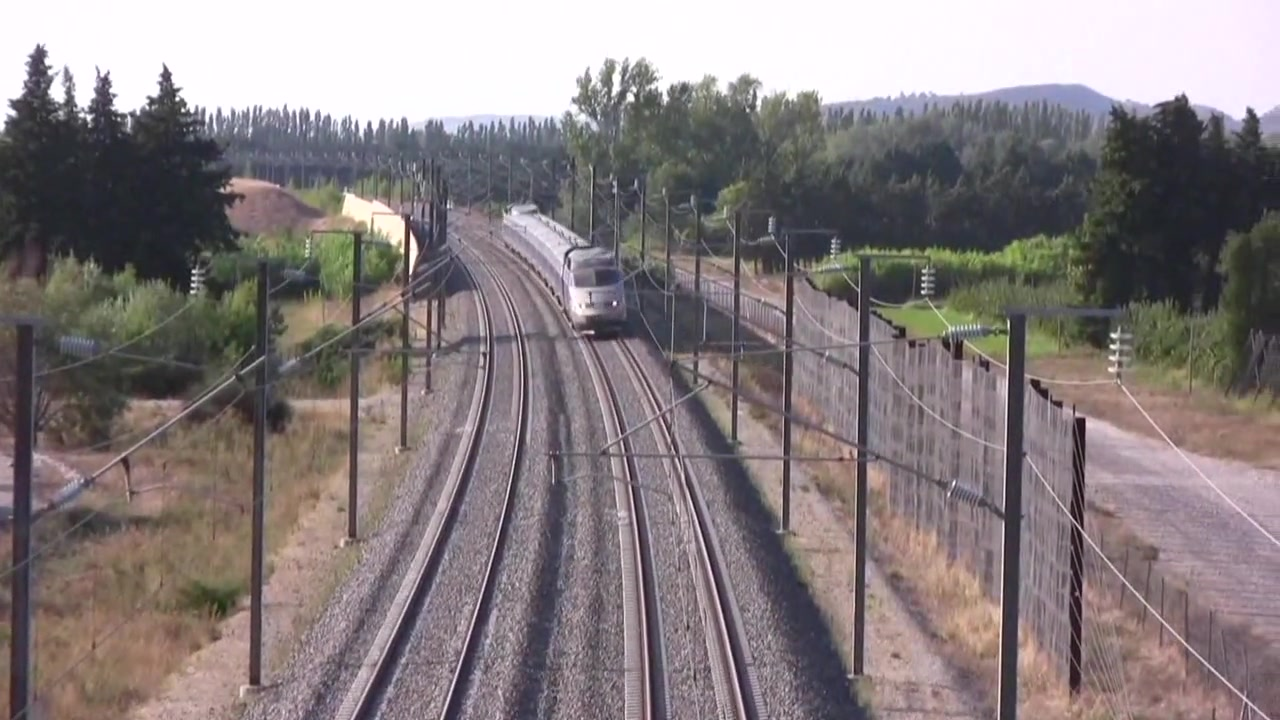train: (498, 200, 636, 344)
